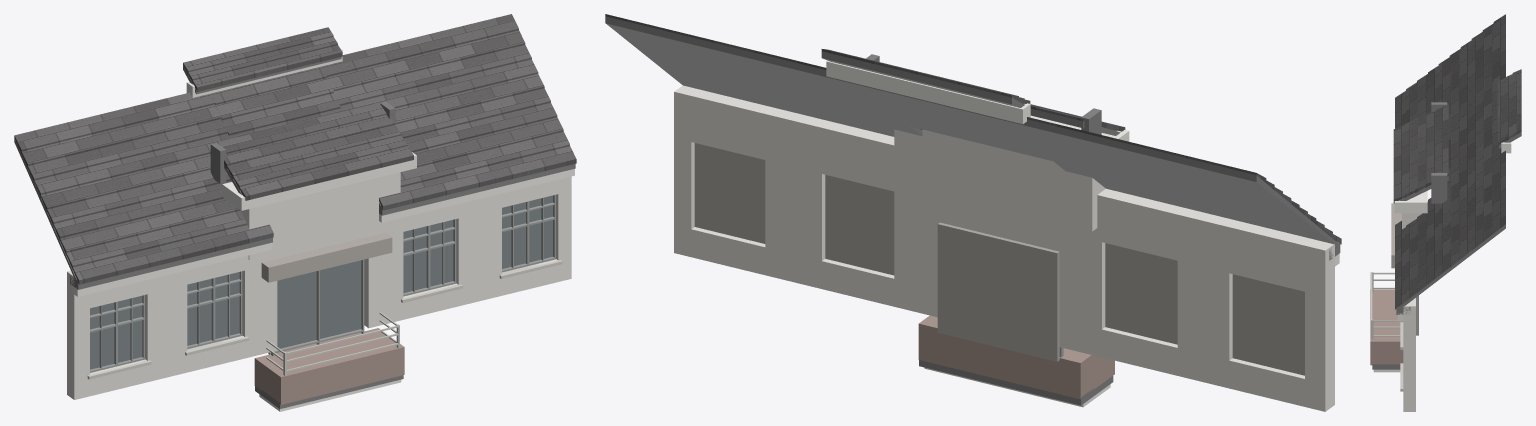
The model's file is hongkou-zhongzhou-school-central-balcony-lod.glb.
The picture shows the model from 3 angles, left to right: view 1: azimuth 30°, elevation 25°; view 2: azimuth 150°, elevation 25°; view 3: azimuth 270°, elevation 25°; orthographic projection. The views are drawn at different scales.
Visible parts, largest first — view 1: 华童公学中州路校舍操场侧中央阳台与钢窗; view 2: 华童公学中州路校舍操场侧中央阳台与钢窗; view 3: 华童公学中州路校舍操场侧中央阳台与钢窗.
Boxes of the visible parts, <box> form: 华童公学中州路校舍操场侧中央阳台与钢窗: <box>14,14,576,411</box>; 华童公学中州路校舍操场侧中央阳台与钢窗: <box>605,14,1341,411</box>; 华童公学中州路校舍操场侧中央阳台与钢窗: <box>1370,14,1521,411</box>.
Bounding box in the file's own units: 8.49 × 4.71 × 2.61.
Materials: 11 (1 with a texture image).
